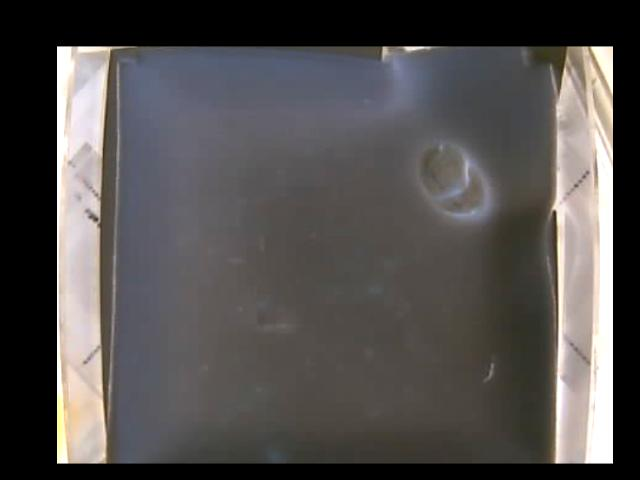Pebble: (420, 142, 488, 215)
